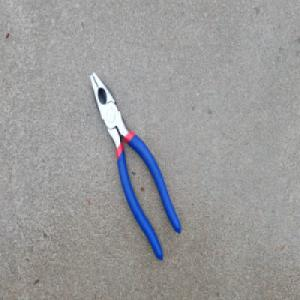Pliers: (89, 70, 182, 263)
